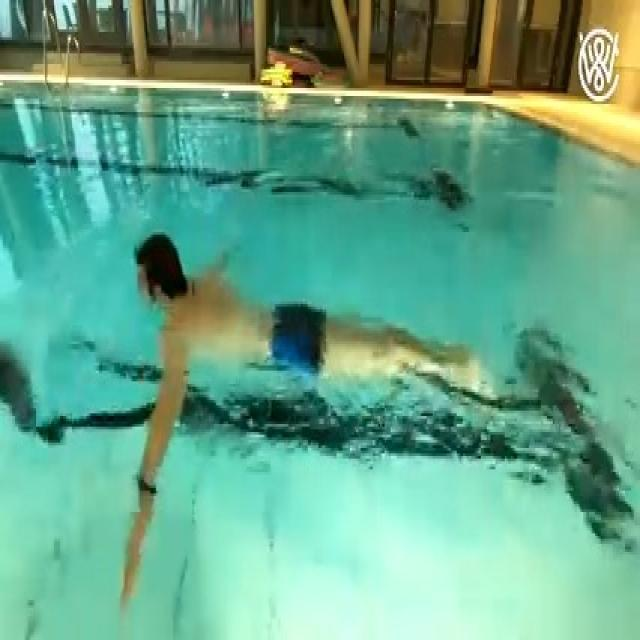Swimming: (117, 232, 495, 591)
